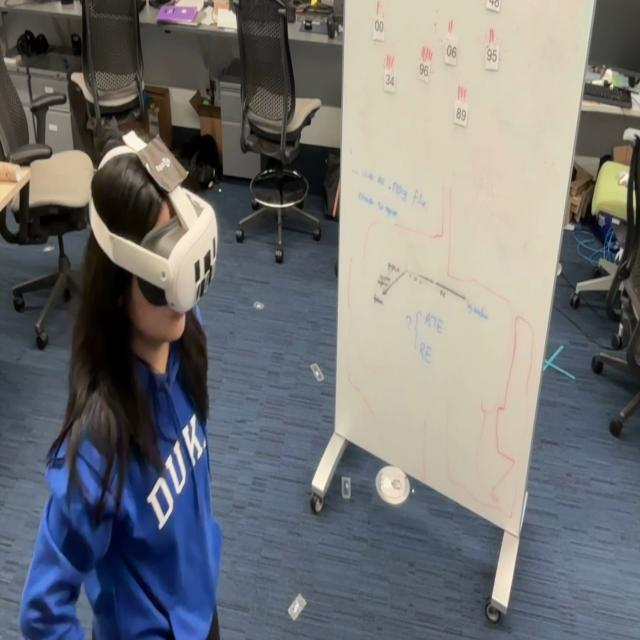Headset: (88, 136, 218, 314)
UnityLogo: (137, 141, 191, 199)
